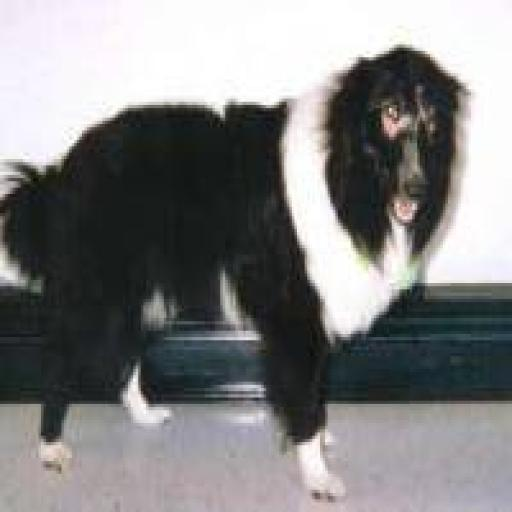Dog: (0, 41, 485, 507)
